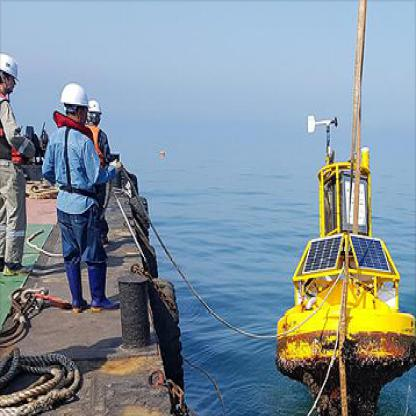buoy: (272, 78, 415, 414)
